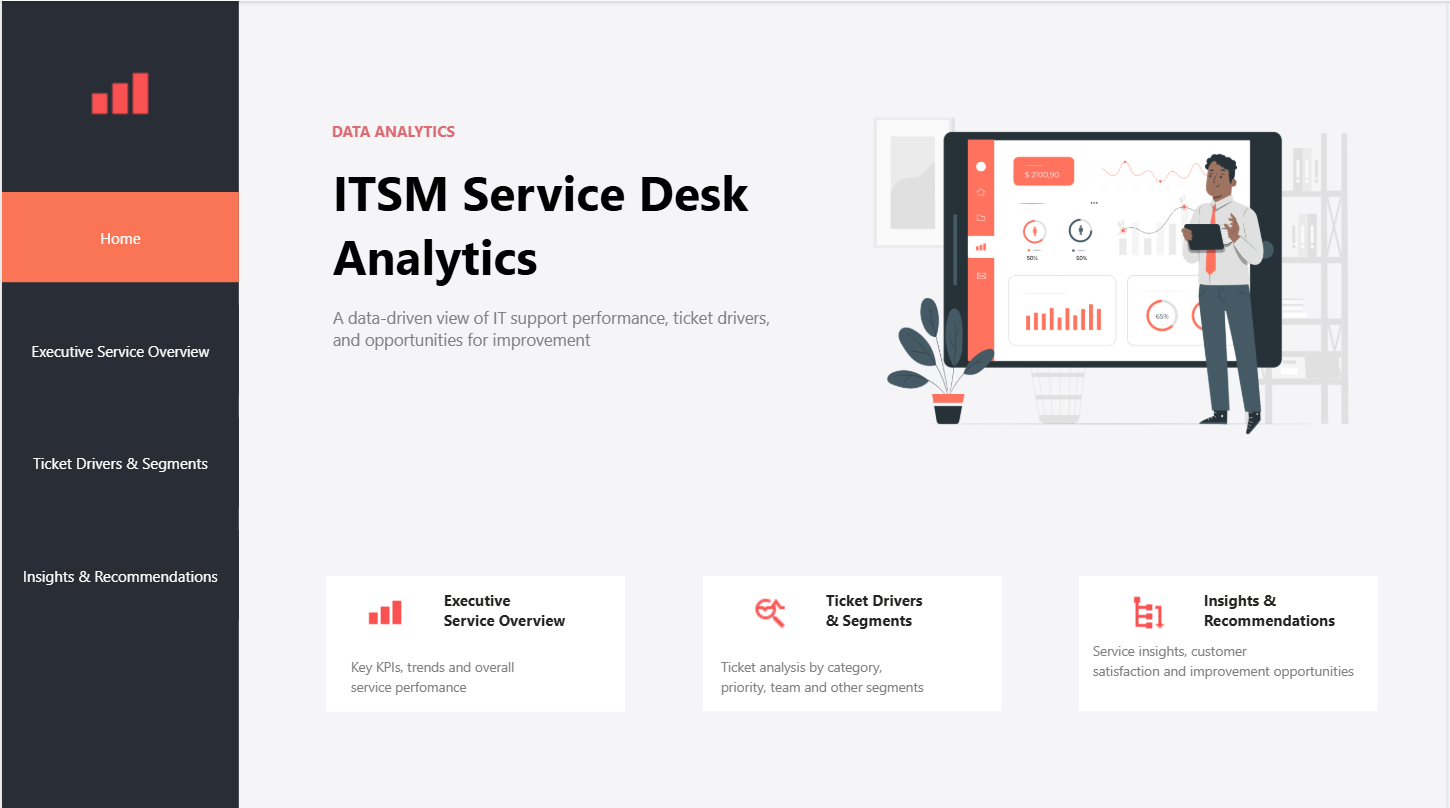

What the dashboard file says about the page in this screenshot:
{"tool":"powerbi","page":{"name":"Home","canvas":[1280,720],"ordinal":0},"visuals":[{"type":"shape","box":[0,0,210.1,720],"z":0},{"type":"textbox","box":[287.3,102,179.1,32.8],"z":1000},{"type":"textbox","box":[288.2,134.8,483.3,156.1],"z":2000},{"type":"textbox","box":[288.2,265.1,482.4,64.7],"z":3000},{"type":"image","box":[708.5,0,554.2,477.9],"z":4000},{"type":"shape","box":[287.3,509.9,265,120],"z":5000},{"type":"shape","box":[621.6,509.9,265.1,119.7],"z":6000},{"type":"shape","box":[955,509.9,265.1,119.7],"z":7000},{"type":"textbox","box":[386.6,517.8,149.9,61.2],"z":8000},{"type":"textbox","box":[725.3,517.8,149.9,61.2],"z":9000},{"type":"textbox","box":[1060.5,517.8,149.9,61.2],"z":10000},{"type":"textbox","box":[304.1,576.4,172.9,53.2],"z":11000},{"type":"textbox","box":[632.2,576.4,228.8,53.2],"z":12000},{"type":"textbox","box":[962.1,562.2,248.3,67.4],"z":13000},{"type":"image","box":[319.2,487.7,40.8,108.2],"z":14000},{"type":"image","box":[660.6,488.6,40.8,108.2],"z":15000},{"type":"image","box":[994.9,487.7,41.7,108.2],"z":16000},{"type":"pageNavigator","box":[0,169.4,210.1,381.3],"z":17000},{"type":"image","box":[72.7,0,63.8,163.2],"z":17001}]}

Visuals, with their boxes in screenshot pixels (x1, y1, x2, y2), scaled from the page's 1280x720 canvas onto the 1450x808 screenshot:
shape: [0,0,238,807]
textbox: [325,114,528,151]
textbox: [326,151,874,326]
textbox: [326,298,873,370]
image: [803,0,1430,536]
shape: [325,572,626,707]
shape: [704,572,1004,707]
shape: [1082,572,1382,707]
textbox: [438,581,608,650]
textbox: [822,581,991,650]
textbox: [1201,581,1371,650]
textbox: [344,647,540,707]
textbox: [716,647,975,707]
textbox: [1090,631,1371,707]
image: [362,547,408,669]
image: [748,548,795,670]
image: [1127,547,1174,669]
pageNavigator: [0,190,238,618]
image: [82,0,155,183]
